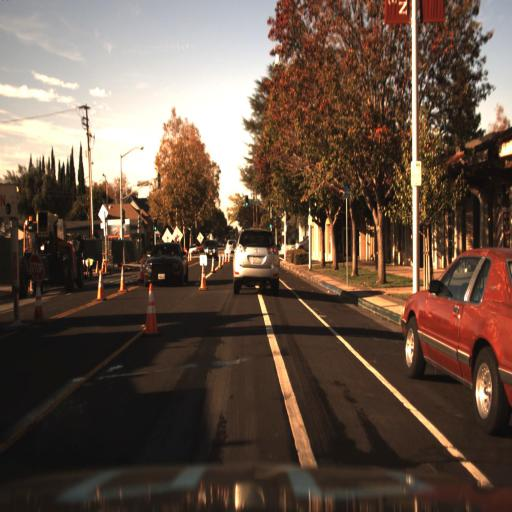car: (400, 244, 512, 439), (230, 225, 280, 296), (143, 241, 187, 294), (200, 240, 220, 265), (221, 236, 238, 258)
trafficLight: (150, 224, 158, 241)
trafficLight-Green: (267, 217, 275, 236), (244, 193, 250, 213)
truck: (13, 210, 82, 291)
